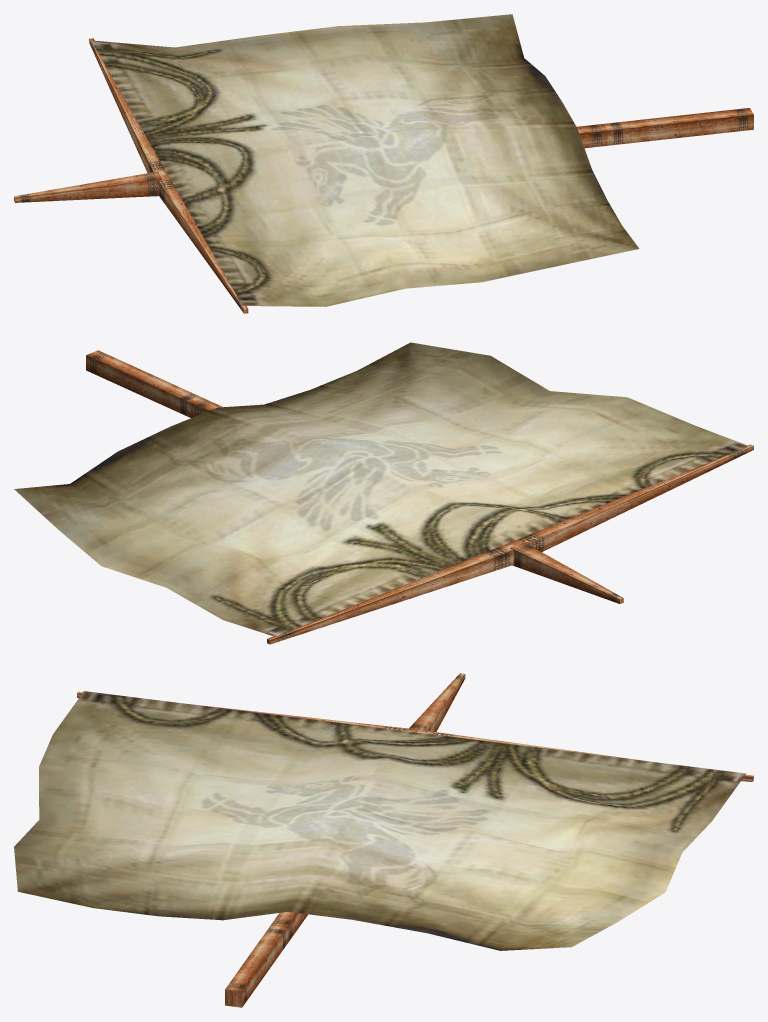
File: shipwreck_sail_2.dae
The picture shows the model from 3 angles, top to bottom: view 1: azimuth 30°, elevation 25°; view 2: azimuth 150°, elevation 25°; view 3: azimuth 270°, elevation 25°; orthographic projection. The views are drawn at different scales.
Parts seen in each view (by area): view 1: Plane_02; view 2: Plane_02; view 3: Plane_02.
Boxes of the visible parts, x1,y1,x2,y2 form: Plane_02: [14, 14, 753, 313]; Plane_02: [14, 342, 753, 644]; Plane_02: [14, 673, 753, 1007].
Size of the model in its own units: 17.62 by 1.2 by 16.7.
